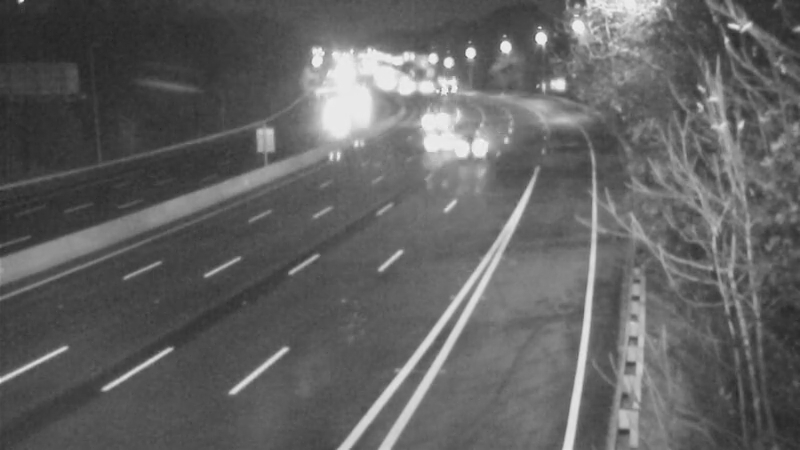vehicle: (414, 93, 464, 143), (424, 113, 474, 163), (444, 119, 494, 169)
